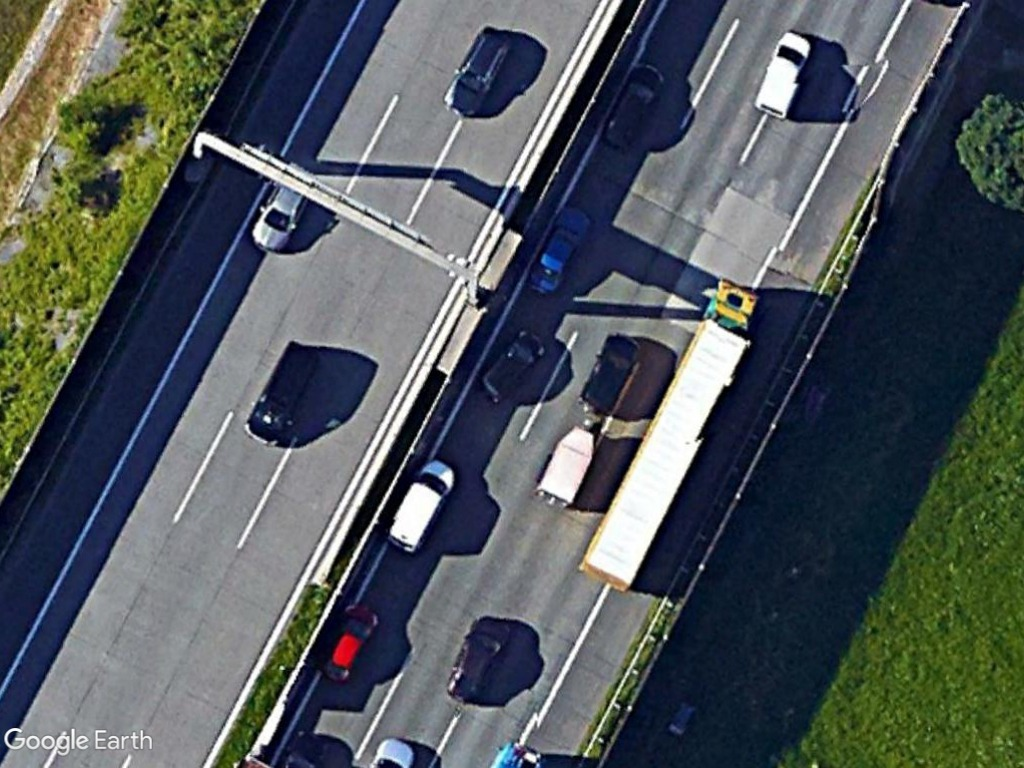car: (521, 197, 597, 303), (441, 21, 518, 122), (597, 59, 669, 156), (444, 613, 515, 709), (312, 598, 382, 687), (577, 327, 642, 421), (476, 324, 550, 405)
longvehicle: (575, 273, 769, 600)
van: (242, 335, 327, 449), (379, 455, 461, 559), (749, 27, 819, 124)
